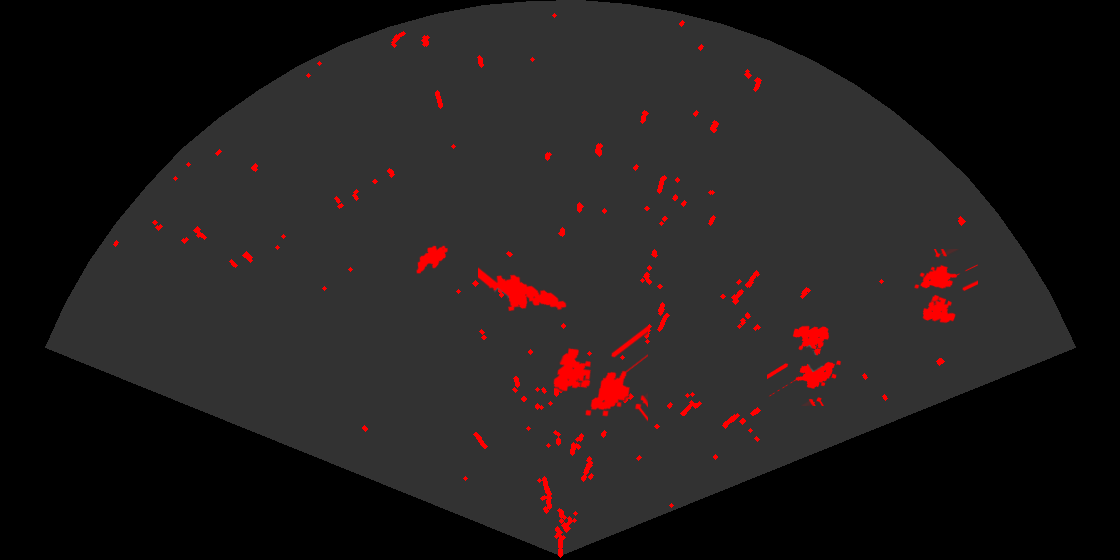AUV: (414, 244, 450, 275)
cage: (552, 324, 648, 423), (767, 324, 842, 406), (912, 249, 978, 325)
frogman: (478, 266, 568, 313)
